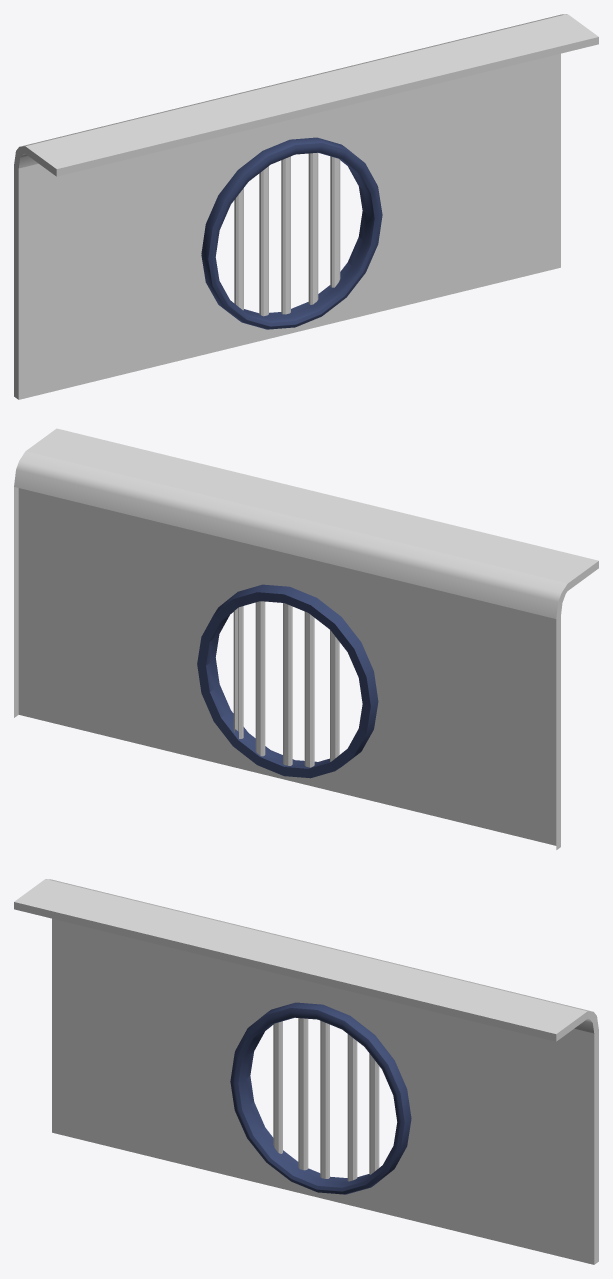
File: Sewer_With_Window.fbx
The picture shows the model from 3 angles, top to bottom: view 1: azimuth 30°, elevation 25°; view 2: azimuth 150°, elevation 25°; view 3: azimuth 330°, elevation 25°; orthographic projection.
Visible parts, largest first — view 1: W; view 2: W; view 3: W.
Part boxes in pixels (bbox=[...]): W: bbox=[14, 14, 598, 399]; W: bbox=[14, 428, 598, 849]; W: bbox=[14, 879, 598, 1264].
Bounding box in the file's own units: 2000 × 911 × 280.
